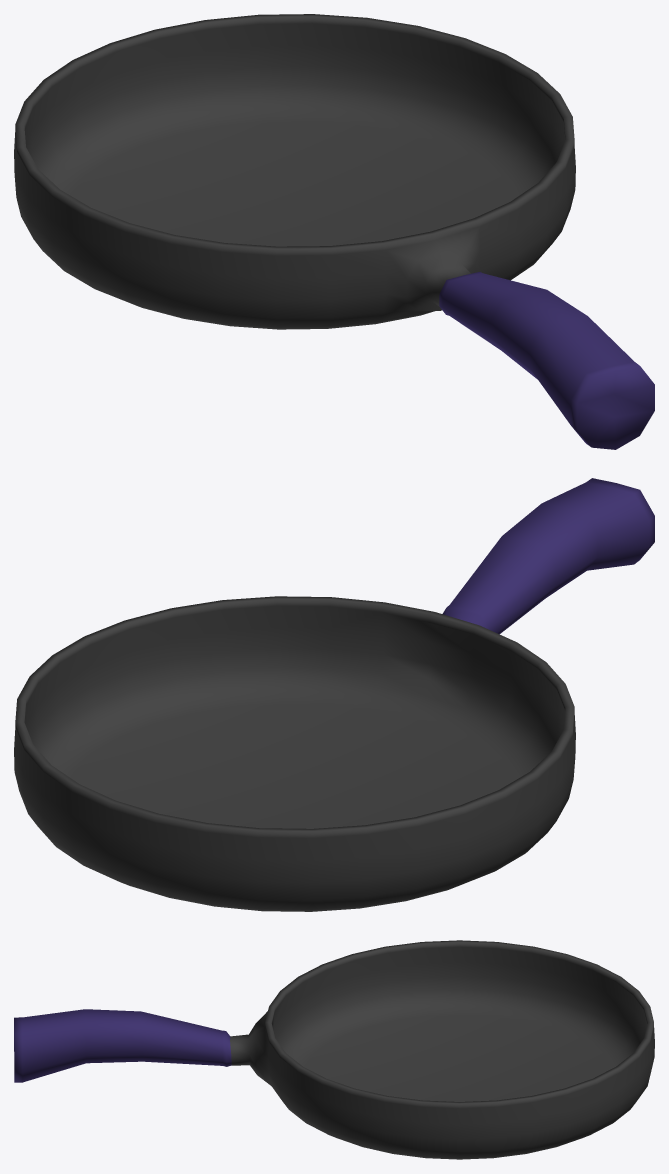
File: pan.fbx
The picture shows the model from 3 angles, top to bottom: view 1: azimuth 30°, elevation 25°; view 2: azimuth 150°, elevation 25°; view 3: azimuth 270°, elevation 25°; orthographic projection. The views are drawn at different scales.
Parts seen in each view (by area): view 1: Cylinder; view 2: Cylinder; view 3: Cylinder.
Boxes of the visible parts, bbox=[...] form: Cylinder: bbox=[14, 14, 654, 449]; Cylinder: bbox=[14, 478, 654, 911]; Cylinder: bbox=[14, 940, 654, 1159].
Bounding box in the file's own units: 62.2 × 13.16 × 102.
